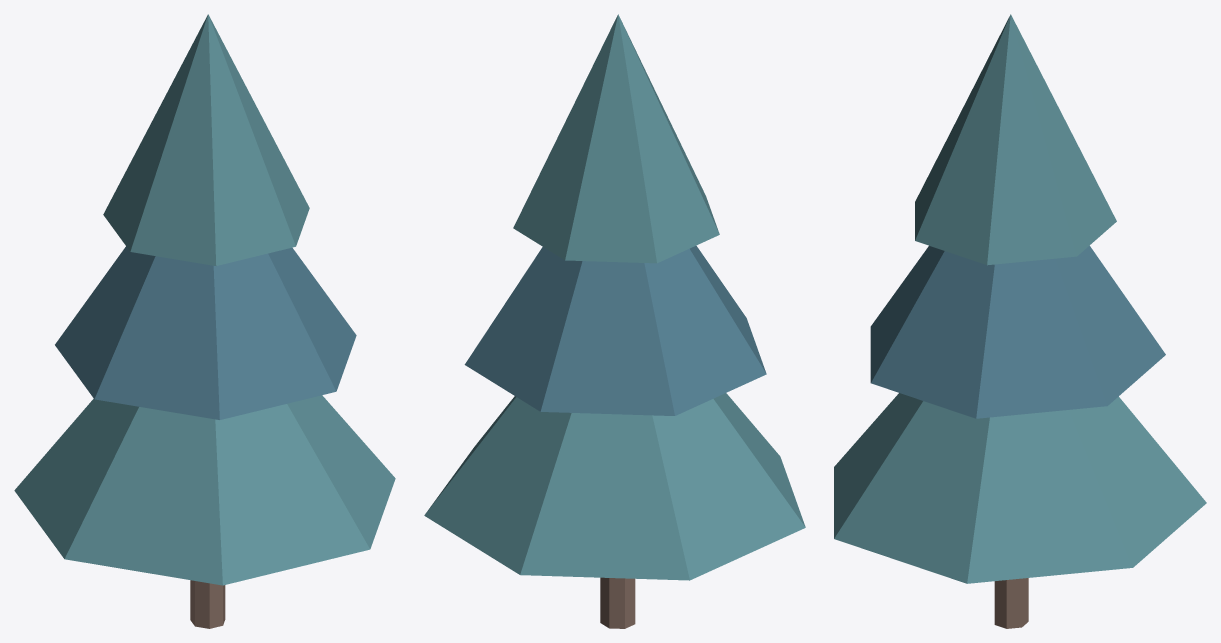
The model's file is tree_pine.glb.
3 views of the same model, side by side, from view 1: azimuth 30°, elevation 25°; view 2: azimuth 150°, elevation 25°; view 3: azimuth 270°, elevation 25° (orthographic).
Parts seen in each view (by area): view 1: SCN_tree_pine; view 2: SCN_tree_pine; view 3: SCN_tree_pine.
Boxes of the visible parts, x1,y1,x2,y2 form: SCN_tree_pine: (14, 14, 395, 628); SCN_tree_pine: (424, 14, 805, 628); SCN_tree_pine: (834, 14, 1206, 628).
Size of the model in its own units: 4.68 by 8.2 by 4.56.
